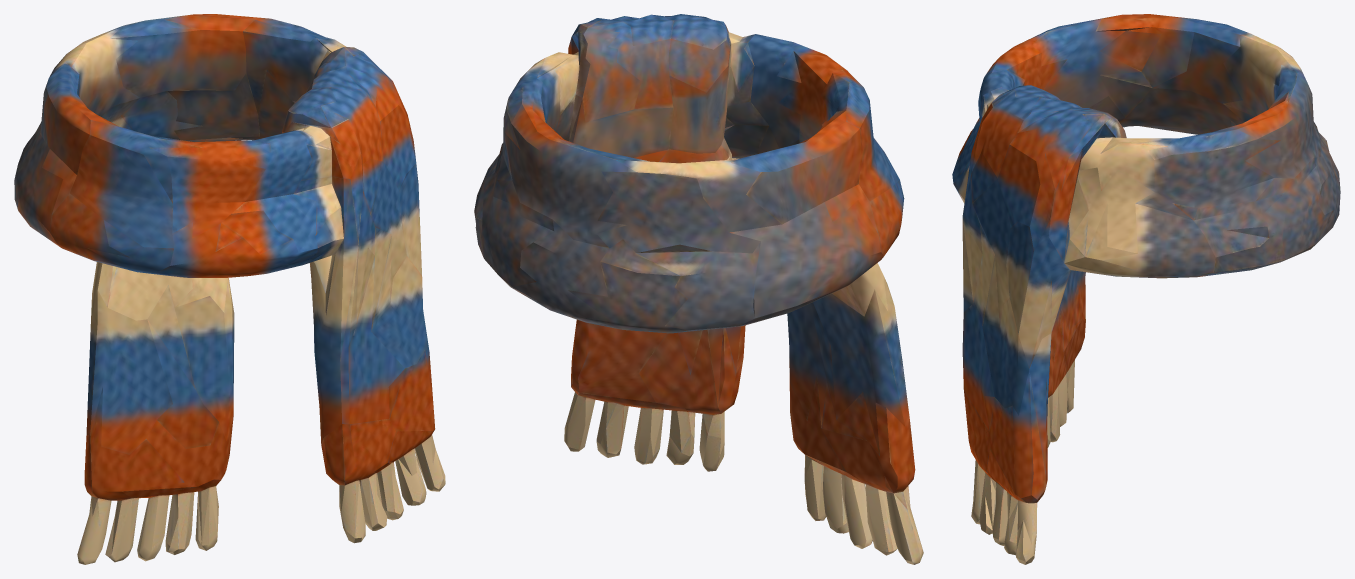
Rendered from scarf_knit.fbx.
The picture shows the model from 3 angles, left to right: view 1: azimuth 30°, elevation 25°; view 2: azimuth 150°, elevation 25°; view 3: azimuth 270°, elevation 25°; orthographic projection. The views are drawn at different scales.
Parts seen in each view (by area): view 1: Mesh_0; view 2: Mesh_0; view 3: Mesh_0.
Boxes of the visible parts, bbox=[...] form: Mesh_0: bbox=[14, 14, 445, 564]; Mesh_0: bbox=[474, 14, 923, 564]; Mesh_0: bbox=[952, 14, 1340, 564].
Size of the model in its own units: 1.56 by 1.9 by 1.53.
Materials: 1 (1 with a texture image).
